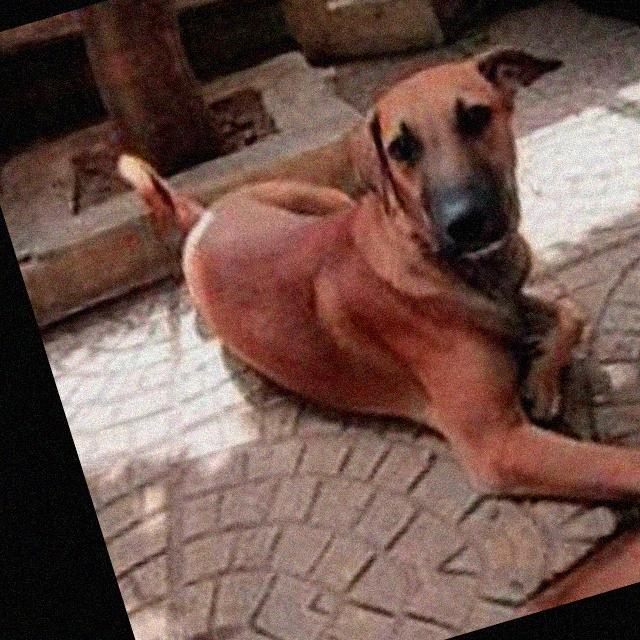dog: (135, 8, 640, 616), (281, 476, 640, 640)
